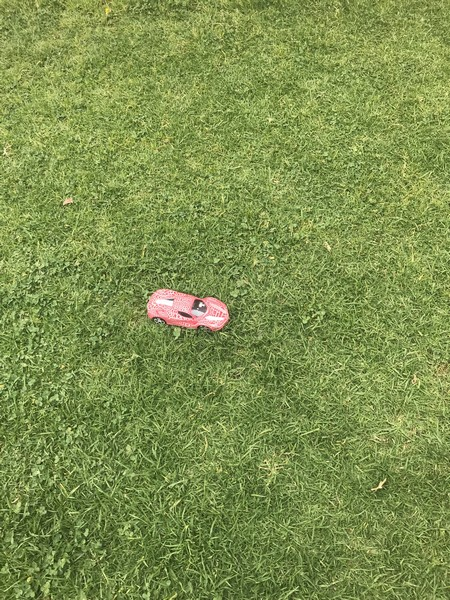RC: (144, 287, 231, 333)
